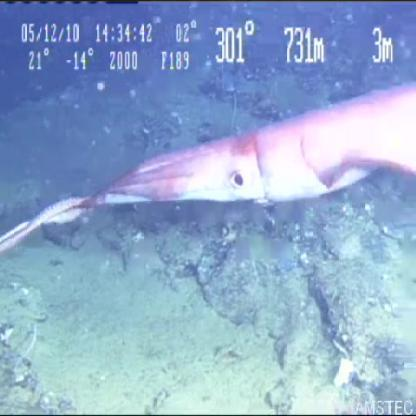Bio: (1, 80, 415, 256)
